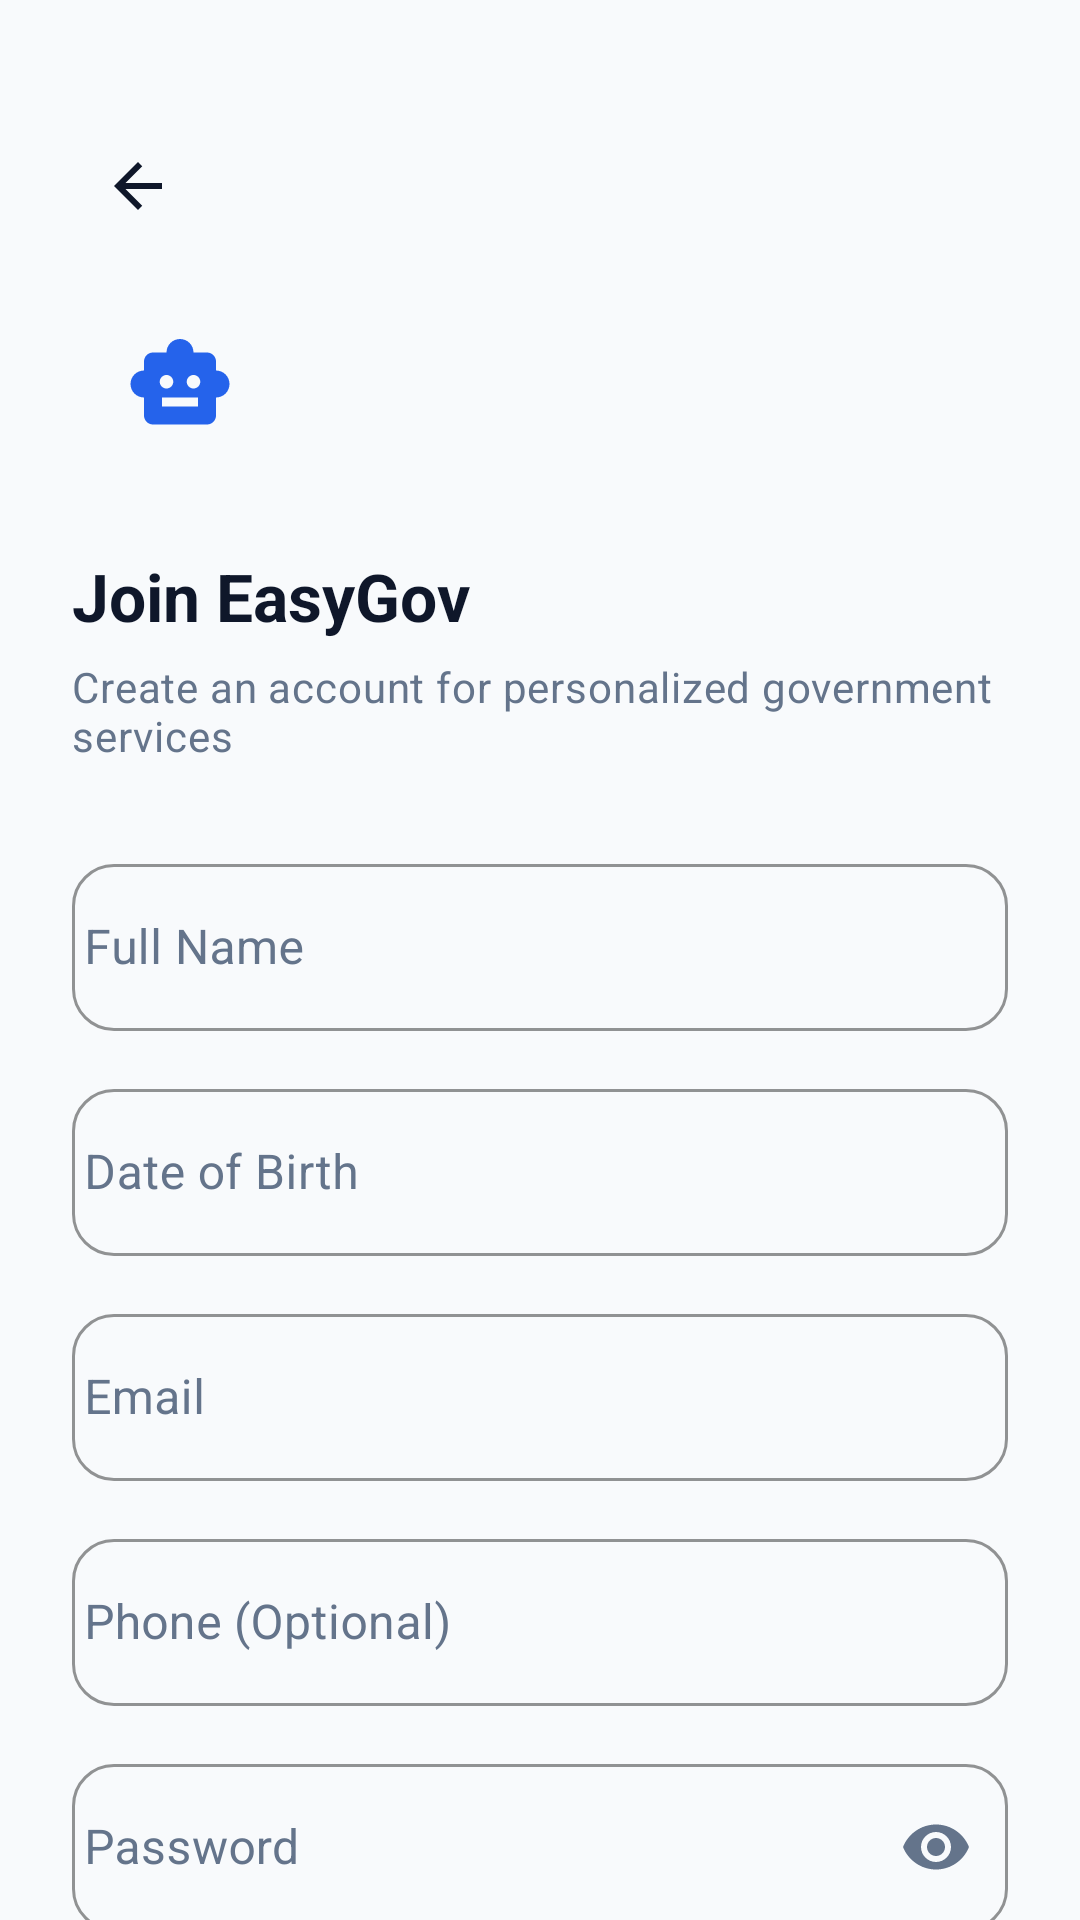

Screen size 1080 × 1920. Icon name, then its box in pixels as (x1, y1, x2, y2):
Back: (114, 162, 162, 210)
robot: (130, 339, 230, 425)
